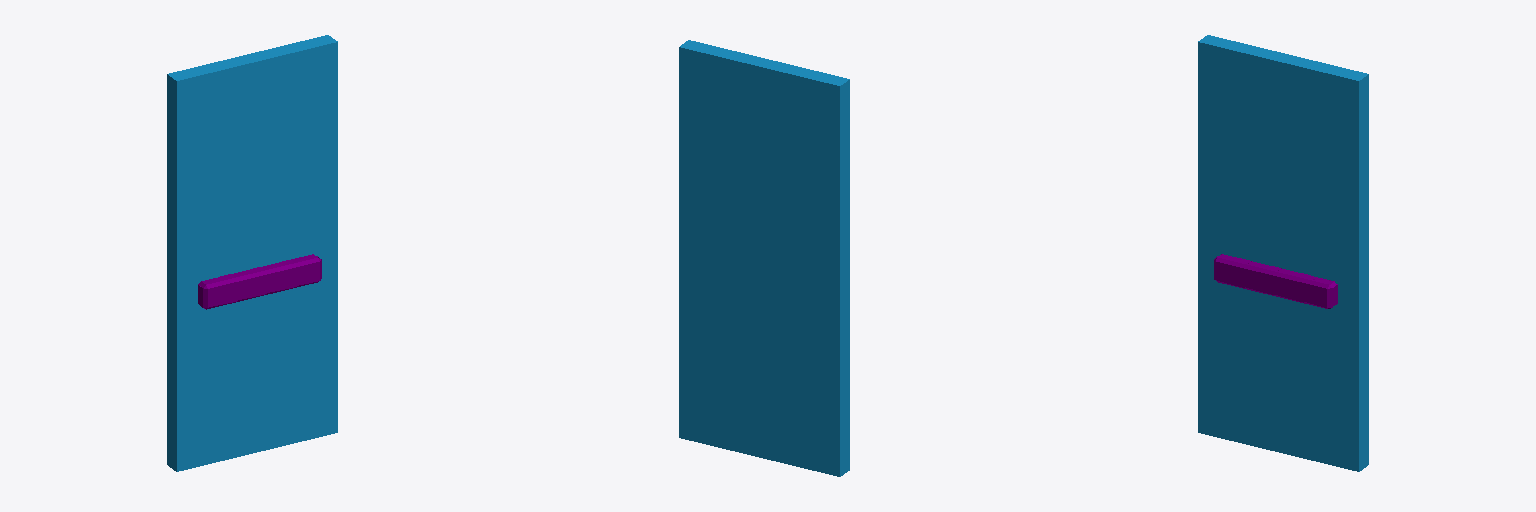
The picture shows the model from 3 angles: view 1: azimuth 30°, elevation 25°; view 2: azimuth 150°, elevation 25°; view 3: azimuth 330°, elevation 25°; orthographic projection.
Visible parts, largest first — view 1: Box001, Box003; view 2: Box001; view 3: Box001, Box003.
Part boxes in pixels (x1,y1,x2,y2): Box001: (167,35,337,471); Box003: (198,254,321,309); Box001: (679,40,849,476); Box001: (1198,35,1368,471); Box003: (1214,254,1337,308).
Bounding box in the file's own units: 37.4 × 86.61 × 6.75.
4 materials, 3 textured.